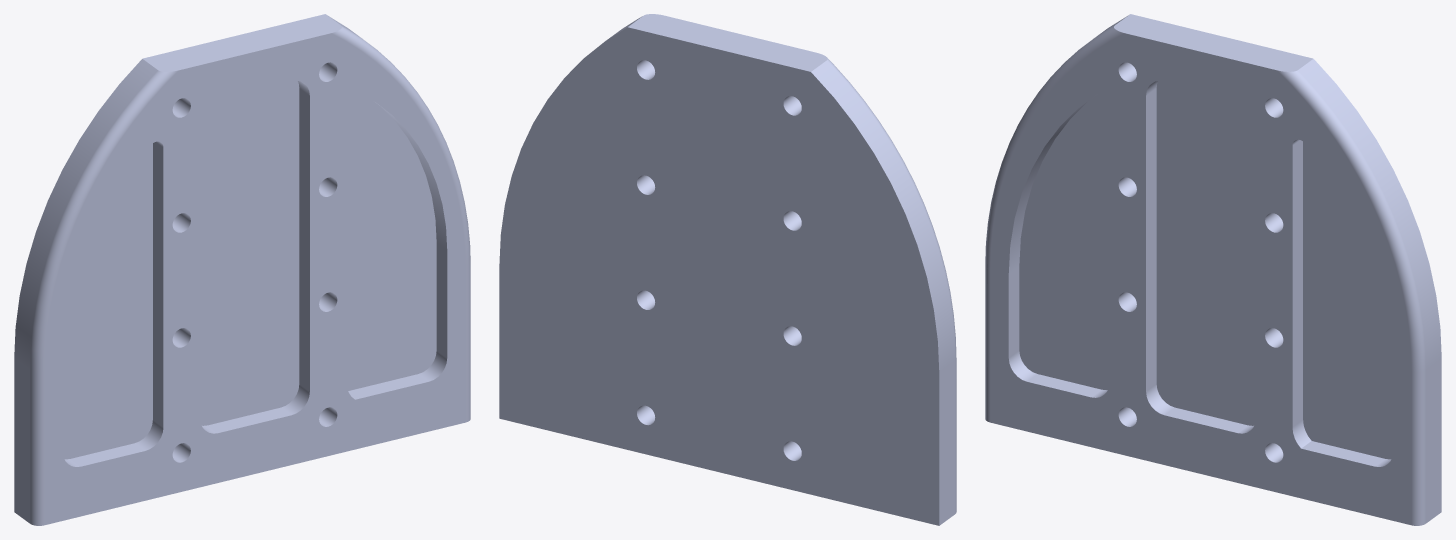
Rendered from Front.dae.
3 renders of one model, left to right at view 1: azimuth 30°, elevation 25°; view 2: azimuth 150°, elevation 25°; view 3: azimuth 330°, elevation 25°, orthographic.
Visible parts, largest first — view 1: Actor0; view 2: Actor0; view 3: Actor0.
Part boxes in pixels (<box>): Actor0: <box>14,14,470,525</box>; Actor0: <box>499,14,956,525</box>; Actor0: <box>985,14,1441,525</box>.
Bounding box in the file's own units: 0.1524 × 0.14 × 0.0127.
